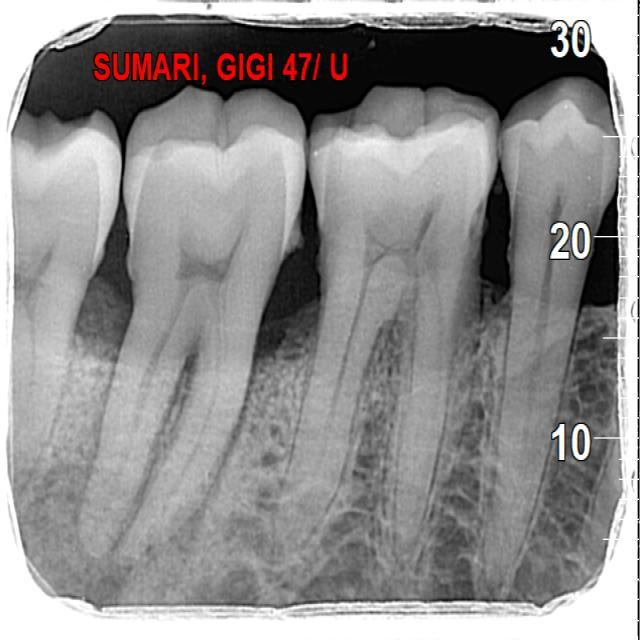individual-tooth-8tto: (266, 94, 503, 564), (62, 96, 301, 559), (470, 76, 631, 582)
